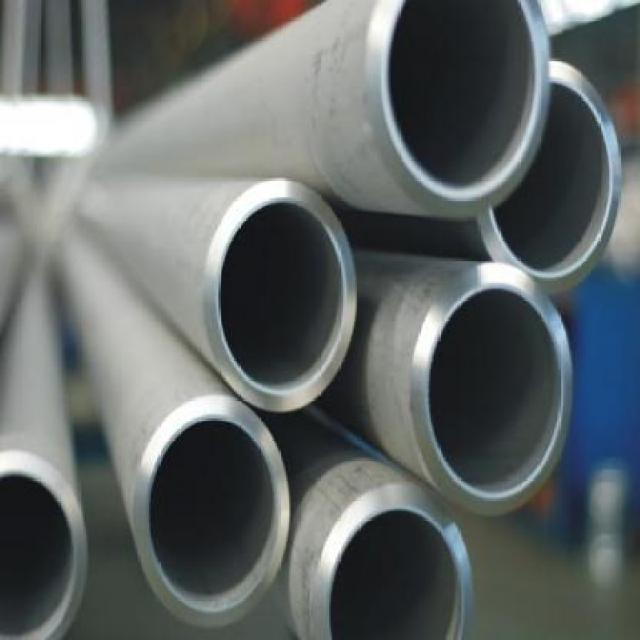pipe: (363, 0, 552, 220), (410, 276, 576, 522), (197, 175, 363, 418), (125, 393, 293, 630), (479, 60, 619, 288), (312, 481, 478, 640), (0, 443, 91, 640)
